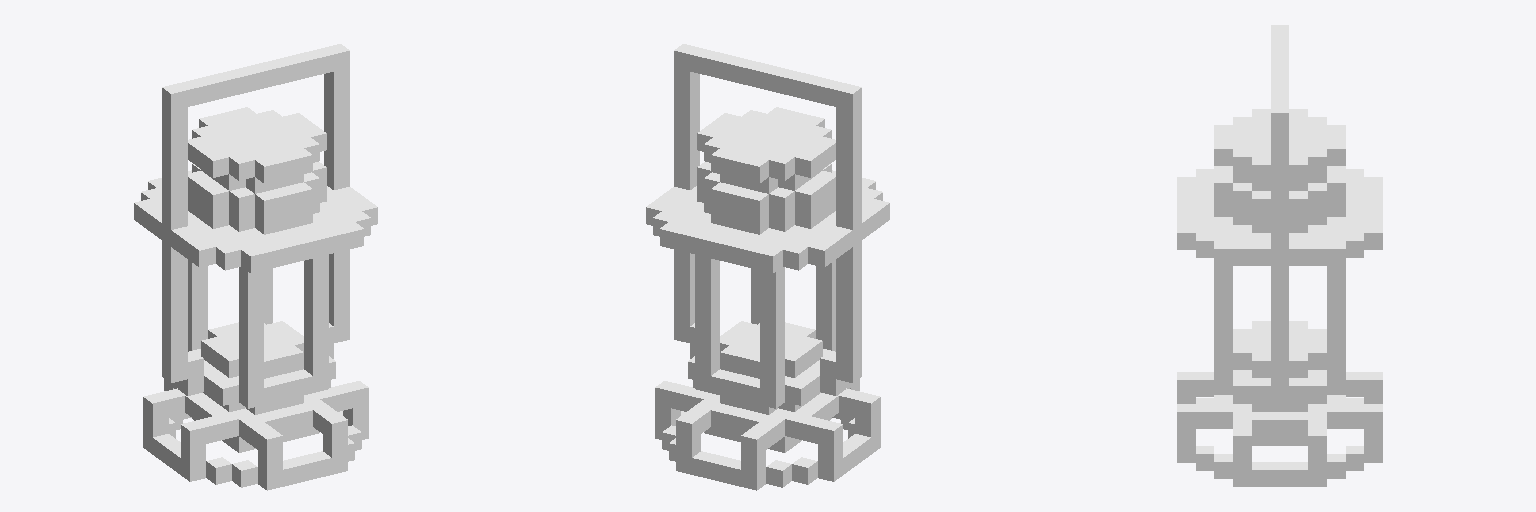
Rendered from SH_Items-6-Lantern_Frame.obj.
The picture shows the model from 3 angles: view 1: azimuth 30°, elevation 25°; view 2: azimuth 150°, elevation 25°; view 3: azimuth 270°, elevation 25°; orthographic projection.
Parts seen in each view (by area): view 1: Lantern_Frame; view 2: Lantern_Frame; view 3: Lantern_Frame.
Part boxes in pixels (x1,y1,x2,y2): Lantern_Frame: (134,44,377,490); Lantern_Frame: (646,44,889,490); Lantern_Frame: (1177,25,1382,486).
Size of the model in its own units: 1.1 by 2.2 by 1.1.